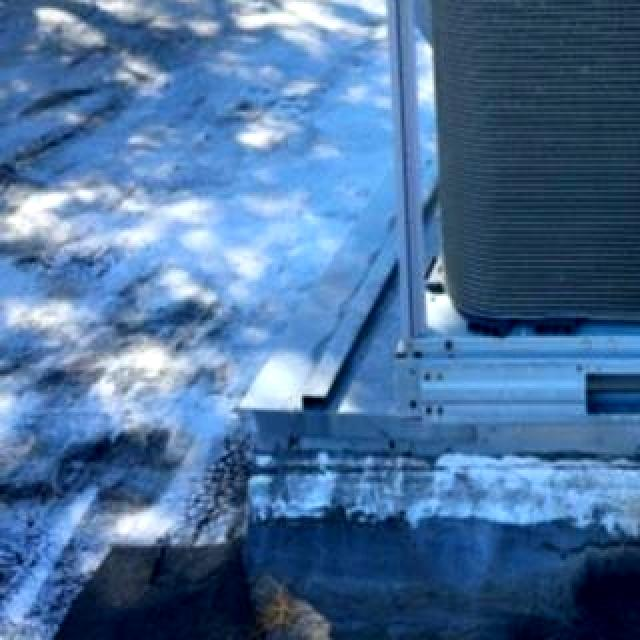RTU: (344, 0, 640, 442)
